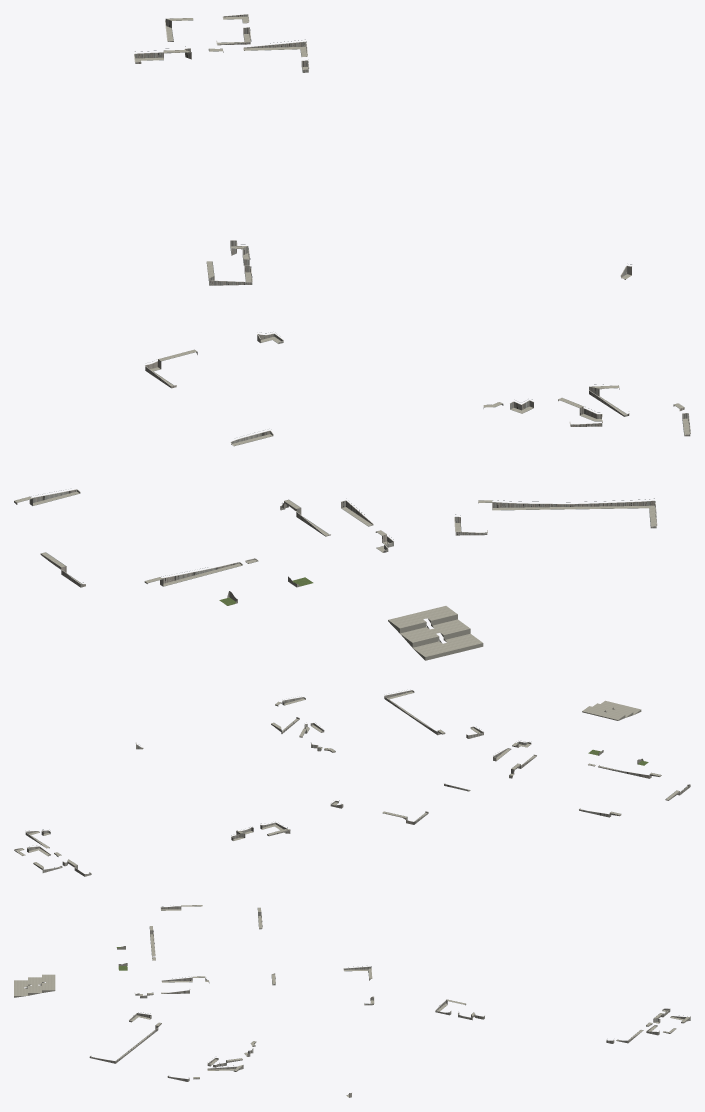
The picture shows the model from 3 angles, top to bottom: view 1: azimuth 30°, elevation 25°; view 2: azimuth 150°, elevation 25°; view 3: azimuth 270°, elevation 25°; orthographic projection. The views are drawn at different scales.
Visible parts, largest first — view 1: ajou-paving (×2), ajou-stonebank, apron-coping, r3-terrace-0-side--1__edgeClosure; view 2: ajou-stonebank, ajou-paving (×2), apron-coping; view 3: ajou-paving (×2), ajou-stonebank, apron-coping.
Part boxes in pixels (x1,y1,x2,y2): ajou-paving (×2): (14,16,689,656); ajou-stonebank: (14,14,690,587); apron-coping: (32,14,690,584); r3-terrace-0-side--1__edgeClosure: (226,576,483,660); ajou-stonebank: (14,690,690,876); ajou-paving (×2): (16,691,687,868); apron-coping: (14,690,690,874); ajou-paving (×2): (14,905,689,1097); ajou-stonebank: (89,905,690,1097); apron-coping: (89,906,686,1095).
Bounding box in the file's own units: 362 × 53.09 × 529.
Materials: 8 (4 with a texture image).
